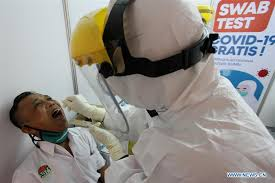Face_Shield: (69, 6, 143, 138)
Gloves: (83, 123, 129, 162), (61, 91, 106, 125)
mask_weared_incorrect: (29, 95, 70, 145)
